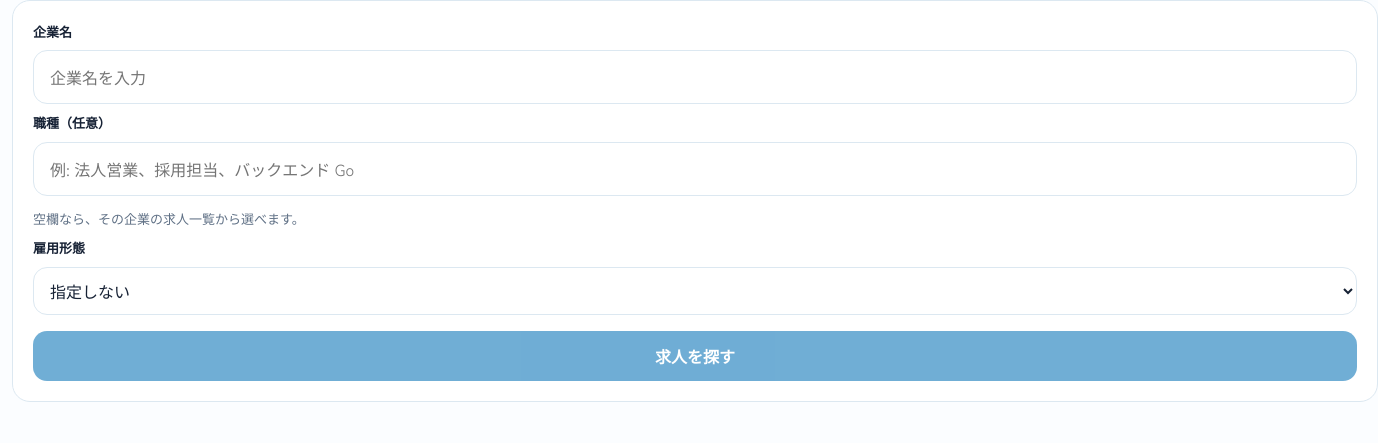
Test: a discovery that takes too long points to direct URL input
Step 1. Type "サンプル" into the field labelled "企業名" → x=695, y=77, box [33,50,1357,104]
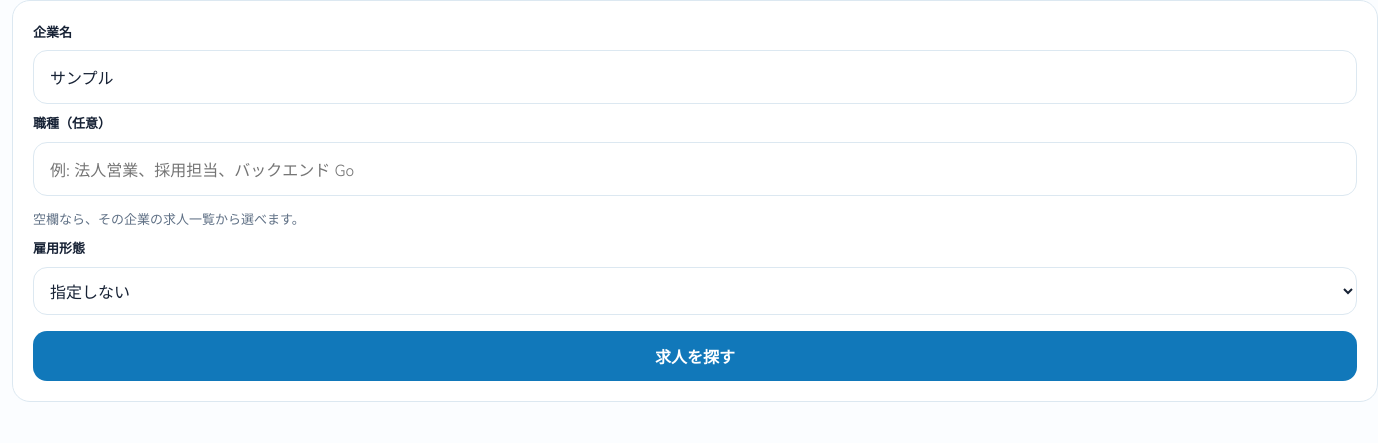
Step 2. Click the button "求人を探す" → x=695, y=356, box [33,331,1357,381]
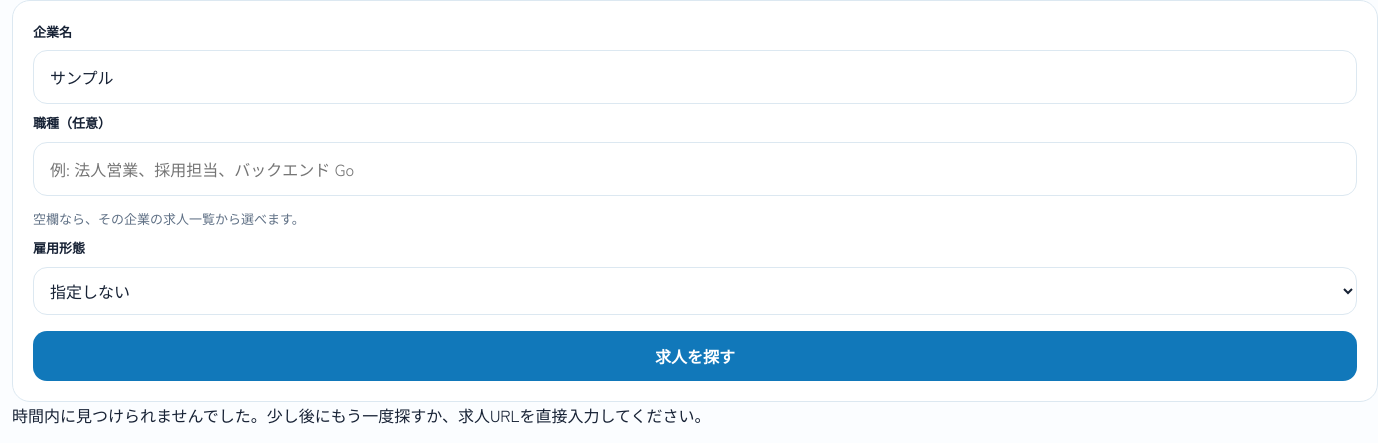
Check: the text "時間内に見つけられませんでした。少し後にもう一度探すか、求人URLを直接入力してください。" is shown, box [12,403,711,427]
